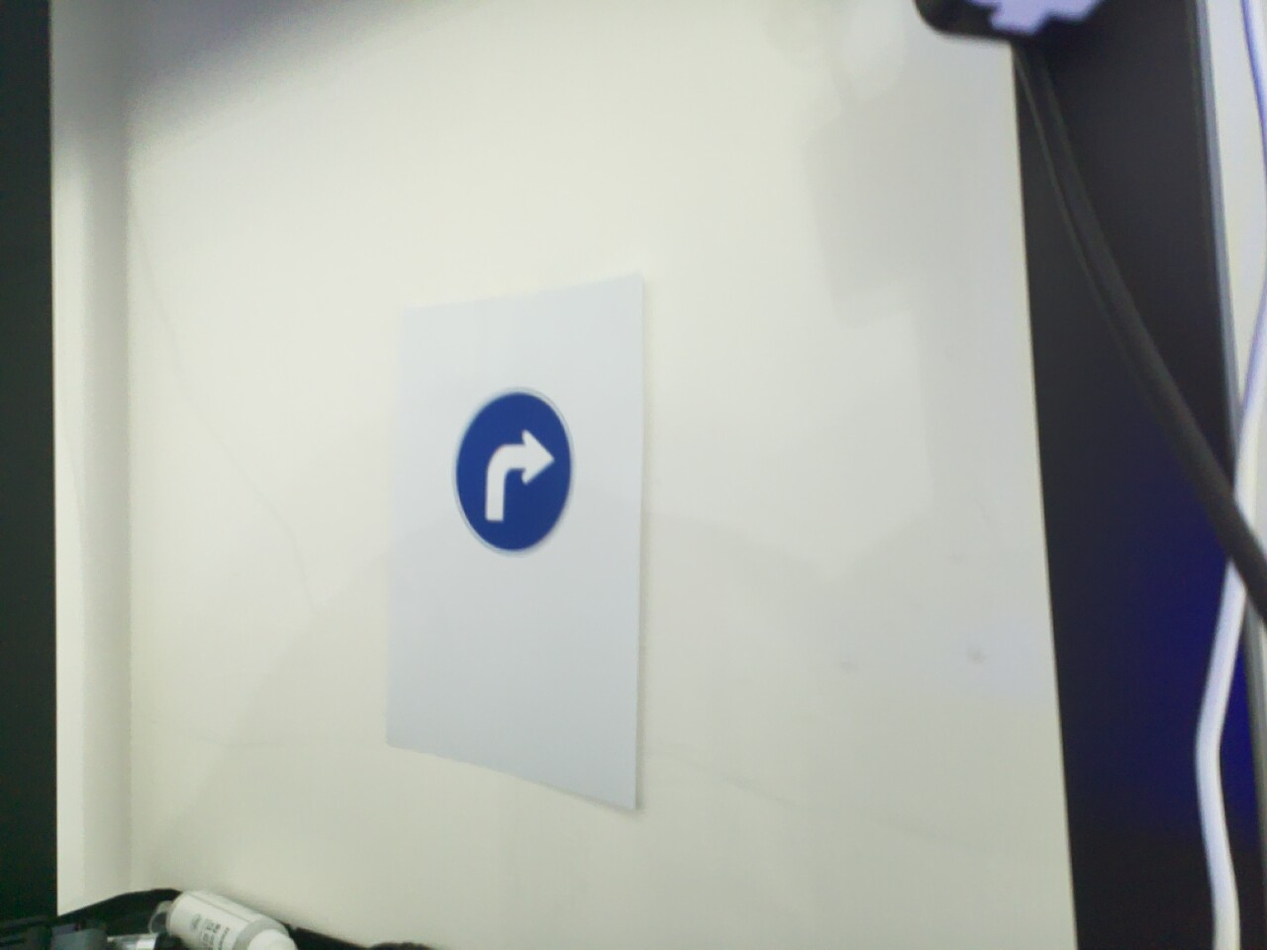right_turn: (449, 385, 577, 558)
